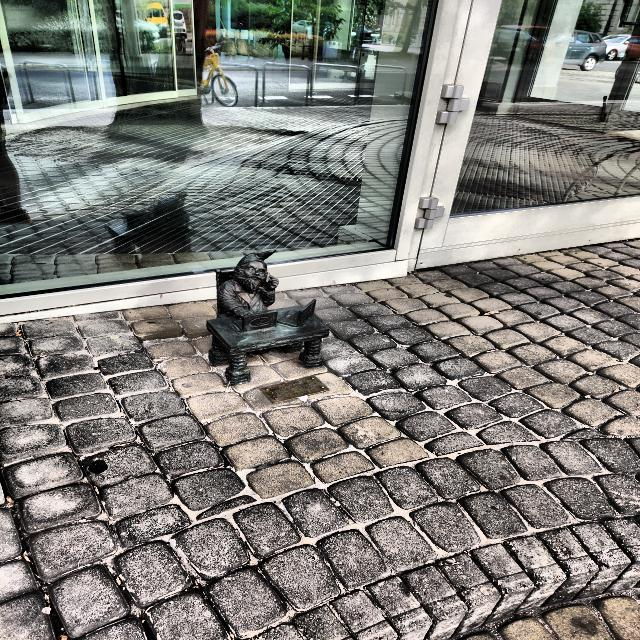WIZek: (207, 251, 328, 385)
